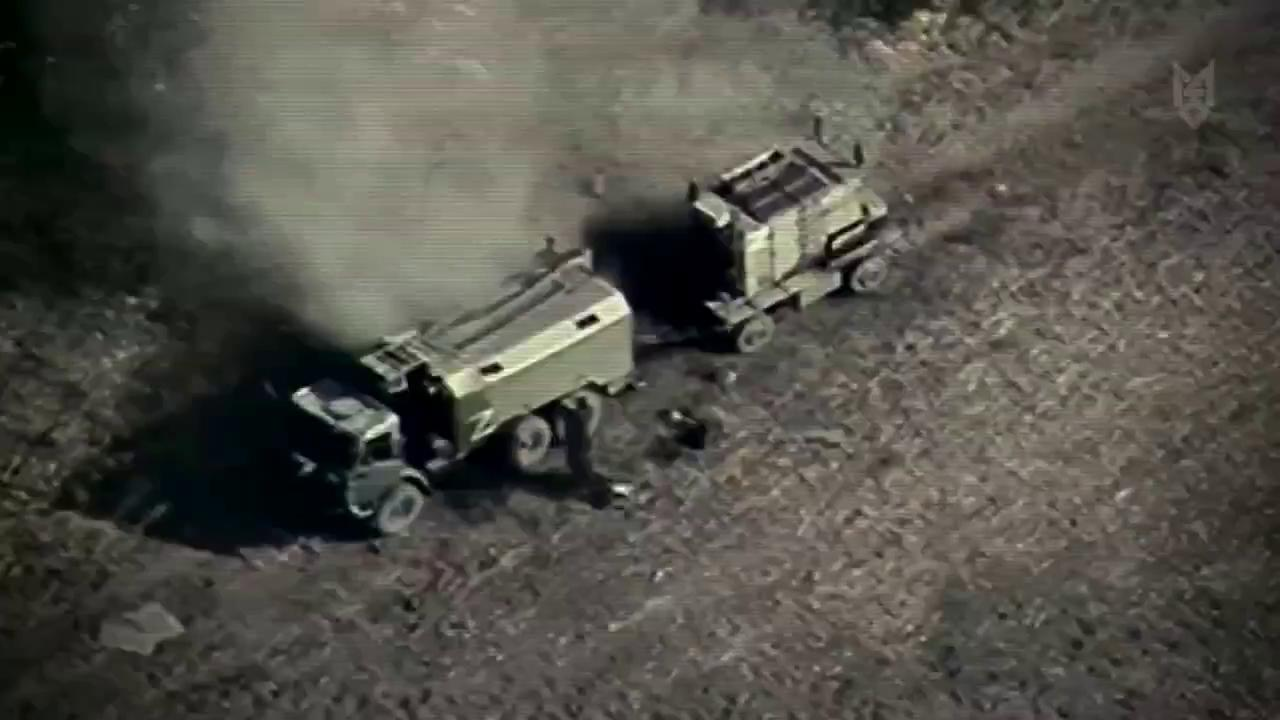tank: (272, 244, 650, 538), (663, 125, 909, 364)
